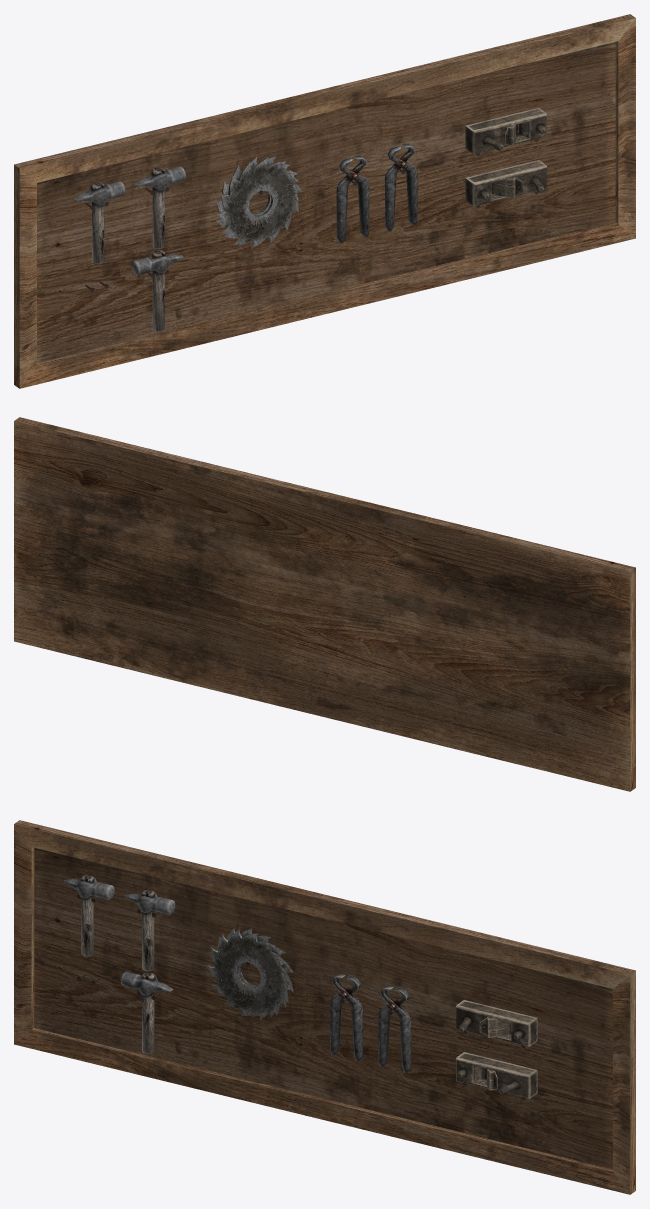
File: wall_of_tools.dae
3 renders of one model, top to bottom at view 1: azimuth 30°, elevation 25°; view 2: azimuth 150°, elevation 25°; view 3: azimuth 330°, elevation 25°, orthographic.
Visible parts, largest first — view 1: pCube1, polySurface21, polySurface19, polySurface22, polySurface20; view 2: pCube1; view 3: pCube1, polySurface21, polySurface19, polySurface22, polySurface20.
Boxes of the visible parts, bbox=[...] form: pCube1: bbox=[14, 14, 635, 388]; polySurface21: bbox=[216, 156, 302, 248]; polySurface19: bbox=[465, 108, 546, 206]; polySurface22: bbox=[72, 166, 185, 331]; polySurface20: bbox=[336, 144, 417, 243]; pCube1: bbox=[14, 417, 635, 791]; pCube1: bbox=[14, 820, 635, 1194]; polySurface21: bbox=[207, 928, 293, 1020]; polySurface19: bbox=[456, 1000, 537, 1098]; polySurface22: bbox=[62, 875, 175, 1053]; polySurface20: bbox=[330, 974, 411, 1073].
Bounding box in the file's own units: 2.93 × 1 × 0.1895.
